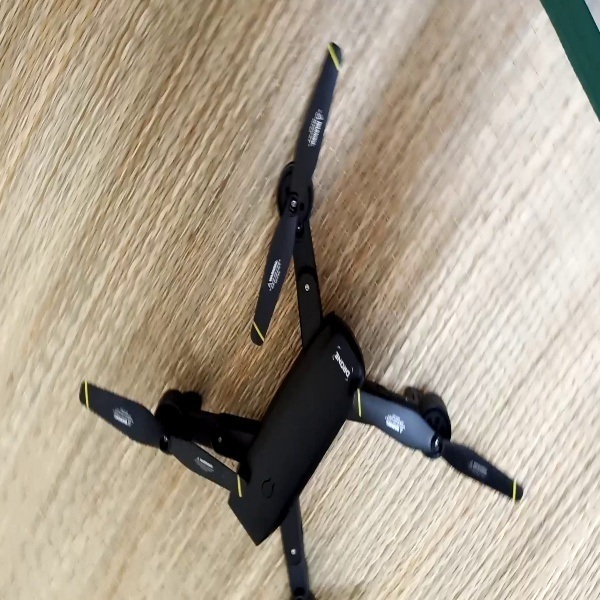drone: (78, 41, 525, 597)
